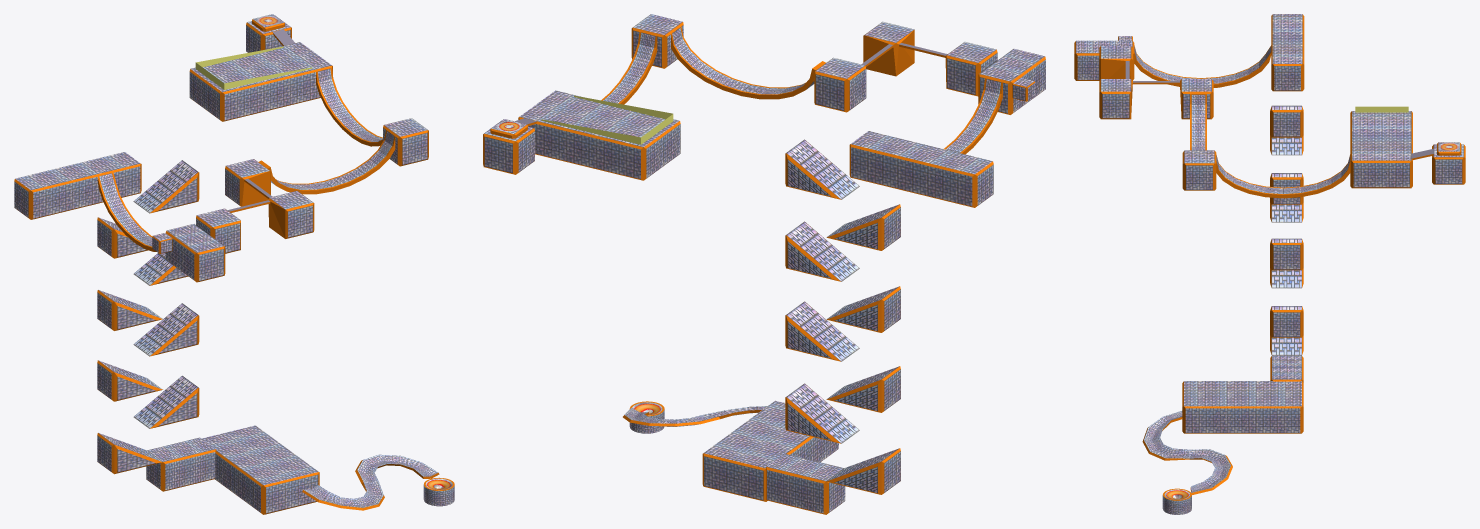
File: Level26.fbx
3 renders of one model, left to right at view 1: azimuth 30°, elevation 25°; view 2: azimuth 150°, elevation 25°; view 3: azimuth 270°, elevation 25°, orthographic. The views are drawn at different scales.
Visible parts, largest first — view 1: Level26; view 2: Level26; view 3: Level26.
Part boxes in pixels (x1=…): Level26: x1=14, y1=14, x2=454, y2=514; Level26: x1=483, y1=14, x2=1045, y2=514; Level26: x1=1074, y1=14, x2=1465, y2=514.
Bounding box in the file's own units: 3942 × 3828 × 3870.
Materials: 11 (7 with a texture image).
